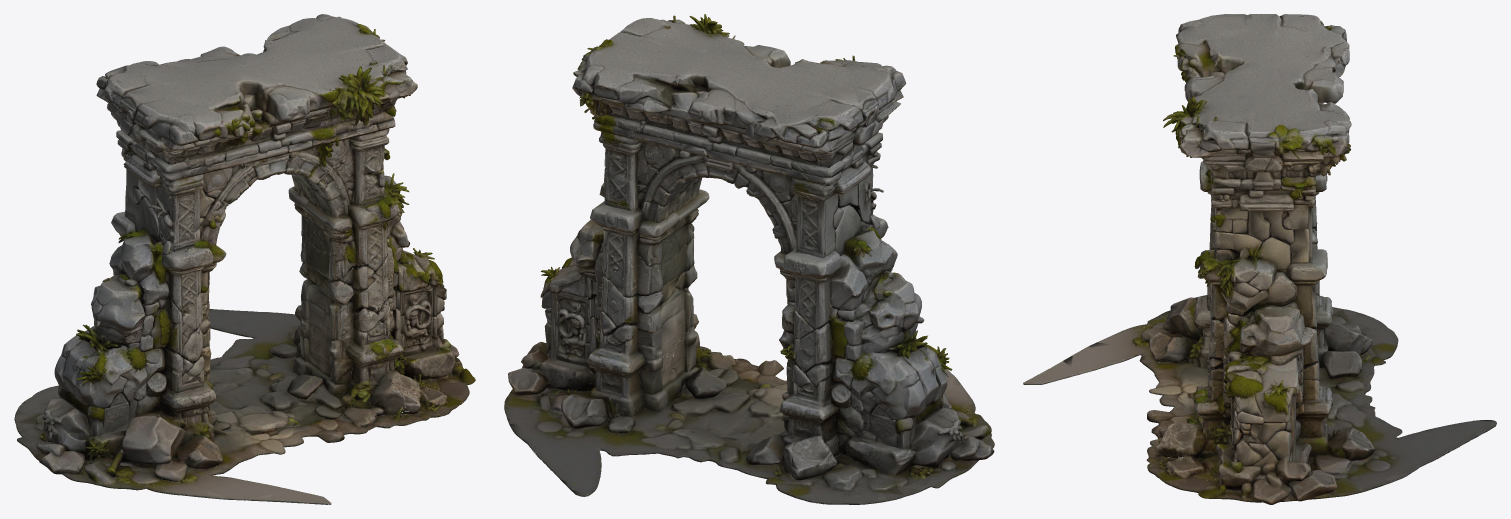
File: puerta.glb
3 renders of one model, left to right at view 1: azimuth 30°, elevation 25°; view 2: azimuth 150°, elevation 25°; view 3: azimuth 270°, elevation 25°, orthographic. The views are drawn at different scales.
Parts seen in each view (by area): view 1: tripo_node_7554d447_tripo_mat_7554d447_0.007, tripo_node_7554d447_tripo_mat_7554d447_0.020, tripo_node_7554d447_tripo_mat_7554d447_0.008, tripo_node_7554d447_tripo_mat_7554d447_0.011, tripo_node_7554d447_tripo_mat_7554d447_0.015, tripo_node_7554d447_tripo_mat_7554d447_0.013, tripo_node_7554d447_tripo_mat_7554d447_0.010, tripo_node_7554d447_tripo_mat_7554d447_0.012, tripo_node_7554d447_tripo_mat_7554d447_0.014, tripo_node_7554d447_tripo_mat_7554d447_0.009, tripo_node_7554d447_tripo_mat_7554d447_0.006, tripo_node_7554d447_tripo_mat_7554d447_0.005 (+10 smaller); view 2: tripo_node_7554d447_tripo_mat_7554d447_0.007, tripo_node_7554d447_tripo_mat_7554d447_0.013, tripo_node_7554d447_tripo_mat_7554d447_0.008, tripo_node_7554d447_tripo_mat_7554d447_0.012, tripo_node_7554d447_tripo_mat_7554d447_0.010, tripo_node_7554d447_tripo_mat_7554d447_0.011, tripo_node_7554d447_tripo_mat_7554d447_0.020, tripo_node_7554d447_tripo_mat_7554d447_0.009, tripo_node_7554d447_tripo_mat_7554d447_0.006, tripo_node_7554d447_tripo_mat_7554d447_0.015, tripo_node_7554d447_tripo_mat_7554d447_0.014, tripo_node_7554d447_tripo_mat_7554d447_0.005 (+10 smaller); view 3: tripo_node_7554d447_tripo_mat_7554d447_0.004, tripo_node_7554d447_tripo_mat_7554d447_0.003, tripo_node_7554d447_tripo_mat_7554d447_0.002, tripo_node_7554d447, tripo_node_7554d447_tripo_mat_7554d447_0.001, tripo_node_7554d447_tripo_mat_7554d447_0.005, tripo_node_7554d447_tripo_mat_7554d447_0.020, tripo_node_7554d447_tripo_mat_7554d447_0.016, tripo_node_7554d447_tripo_mat_7554d447_0.019, tripo_node_7554d447_tripo_mat_7554d447_0.012, tripo_node_7554d447_tripo_mat_7554d447_0.007, tripo_node_7554d447_tripo_mat_7554d447_0.010 (+10 smaller).
Part boxes in pixels (x1,y1,x2,y2): tripo_node_7554d447_tripo_mat_7554d447_0.007: (223,16,417,430); tripo_node_7554d447_tripo_mat_7554d447_0.020: (191,46,338,450); tripo_node_7554d447_tripo_mat_7554d447_0.008: (208,30,415,428); tripo_node_7554d447_tripo_mat_7554d447_0.011: (96,61,223,467); tripo_node_7554d447_tripo_mat_7554d447_0.015: (27,241,237,499); tripo_node_7554d447_tripo_mat_7554d447_0.013: (20,79,209,495); tripo_node_7554d447_tripo_mat_7554d447_0.010: (111,66,292,502); tripo_node_7554d447_tripo_mat_7554d447_0.012: (96,67,282,501); tripo_node_7554d447_tripo_mat_7554d447_0.014: (14,340,153,489); tripo_node_7554d447_tripo_mat_7554d447_0.009: (130,25,376,434); tripo_node_7554d447_tripo_mat_7554d447_0.006: (232,18,418,427); tripo_node_7554d447_tripo_mat_7554d447_0.005: (250,14,465,428); tripo_node_7554d447_tripo_mat_7554d447_0.007: (563,14,748,459); tripo_node_7554d447_tripo_mat_7554d447_0.013: (786,66,982,504); tripo_node_7554d447_tripo_mat_7554d447_0.008: (553,21,787,485); tripo_node_7554d447_tripo_mat_7554d447_0.012: (771,65,954,496); tripo_node_7554d447_tripo_mat_7554d447_0.010: (760,65,955,475); tripo_node_7554d447_tripo_mat_7554d447_0.011: (754,65,892,463); tripo_node_7554d447_tripo_mat_7554d447_0.020: (605,46,790,462); tripo_node_7554d447_tripo_mat_7554d447_0.009: (554,33,900,496); tripo_node_7554d447_tripo_mat_7554d447_0.006: (531,16,722,473); tripo_node_7554d447_tripo_mat_7554d447_0.015: (776,239,975,504); tripo_node_7554d447_tripo_mat_7554d447_0.014: (859,343,994,504); tripo_node_7554d447_tripo_mat_7554d447_0.005: (514,15,719,468); tripo_node_7554d447_tripo_mat_7554d447_0.004: (1149,110,1458,470); tripo_node_7554d447_tripo_mat_7554d447_0.003: (1150,120,1473,480); tripo_node_7554d447_tripo_mat_7554d447_0.002: (1147,114,1430,484); tripo_node_7554d447: (1146,367,1387,504); tripo_node_7554d447_tripo_mat_7554d447_0.001: (1160,124,1439,492); tripo_node_7554d447_tripo_mat_7554d447_0.005: (1147,114,1457,484); tripo_node_7554d447_tripo_mat_7554d447_0.020: (1154,59,1399,437); tripo_node_7554d447_tripo_mat_7554d447_0.016: (1104,25,1385,393); tripo_node_7554d447_tripo_mat_7554d447_0.019: (1023,44,1384,426); tripo_node_7554d447_tripo_mat_7554d447_0.012: (1073,14,1395,374); tripo_node_7554d447_tripo_mat_7554d447_0.007: (1147,76,1413,456); tripo_node_7554d447_tripo_mat_7554d447_0.010: (1050,21,1362,385).
Bounding box in the file's own units: 0.9797 × 0.7447 × 0.9342.
1 material, 1 textured.
